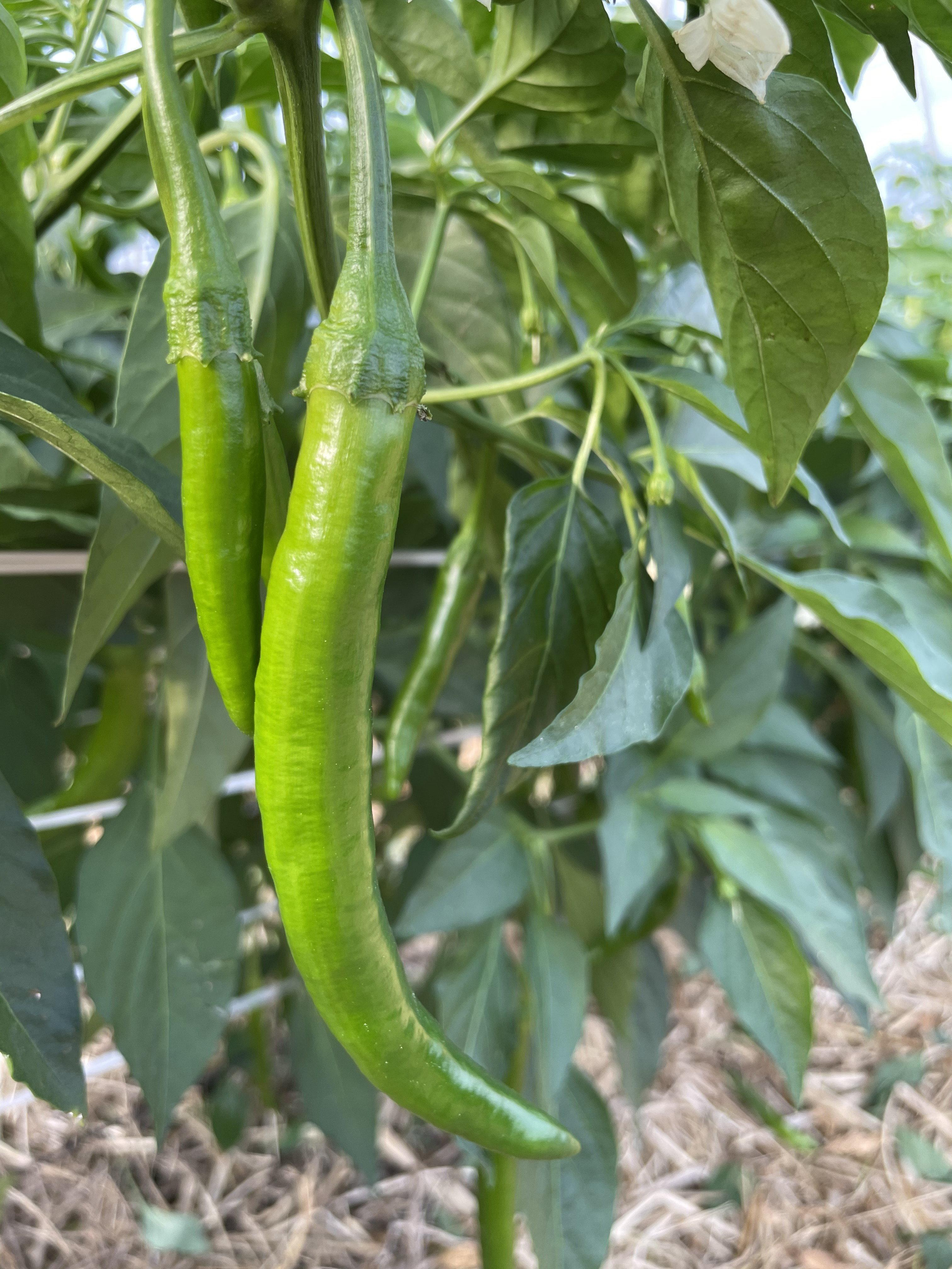Buah Cabai Sehat: (249, 250, 589, 1176), (161, 237, 278, 711)
